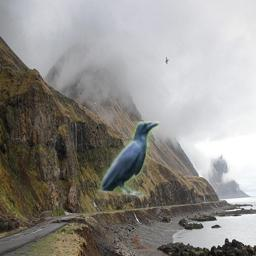Crow: (95, 121, 159, 205)
